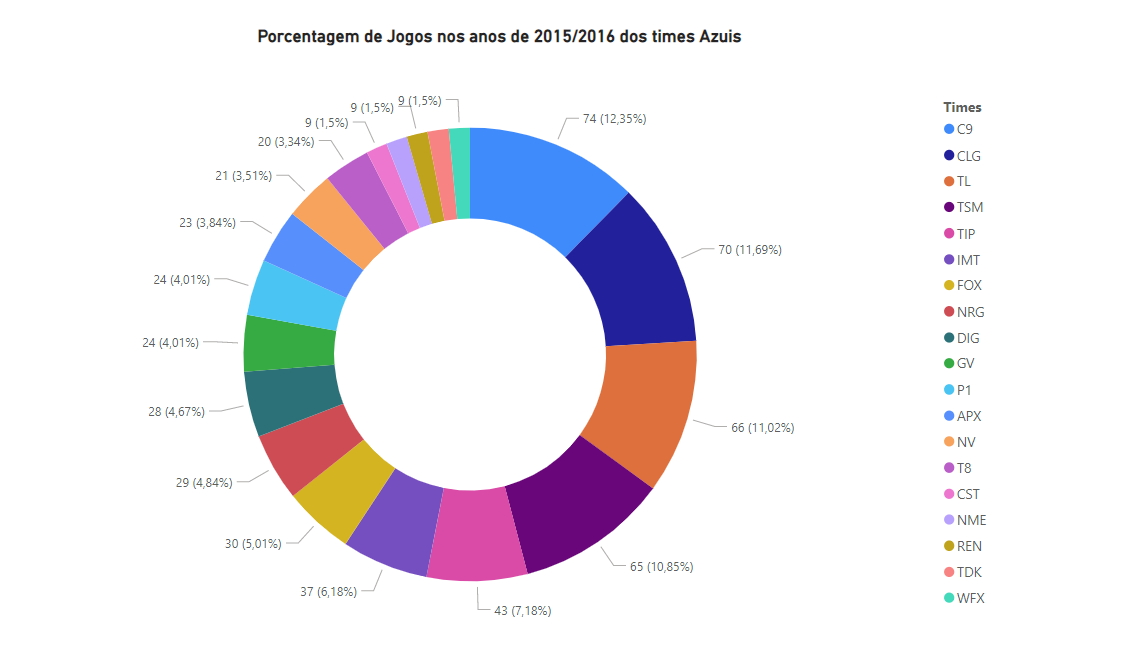

Layout of this report page (visuals, bound fields, positions):
{"tool":"powerbi","page":{"name":"Queryblue","canvas":[1280,720],"ordinal":1},"visuals":[{"type":"donutChart","title":"Porcentagem de Jogos nos anos de 2015/2016 dos times Azuis","fields":{"Category":["Queryblue.blueTeamTag"],"Y":["Sum(Queryblue.count(blueTeamTag))"]},"box":[145.9,49.6,987.2,619.6],"z":0}]}

Visuals, with their boxes on the page's 1280x720 design canvas (x1, y1, x2, y2). These are canvas units, not pixel positions in the 1128x672 screenshot, which may show the page scaled, cropped or inside an application window:
"Porcentagem de Jogos nos anos de 2015/2016 dos times Azuis" donutChart: x1=146, y1=50, x2=1133, y2=669
